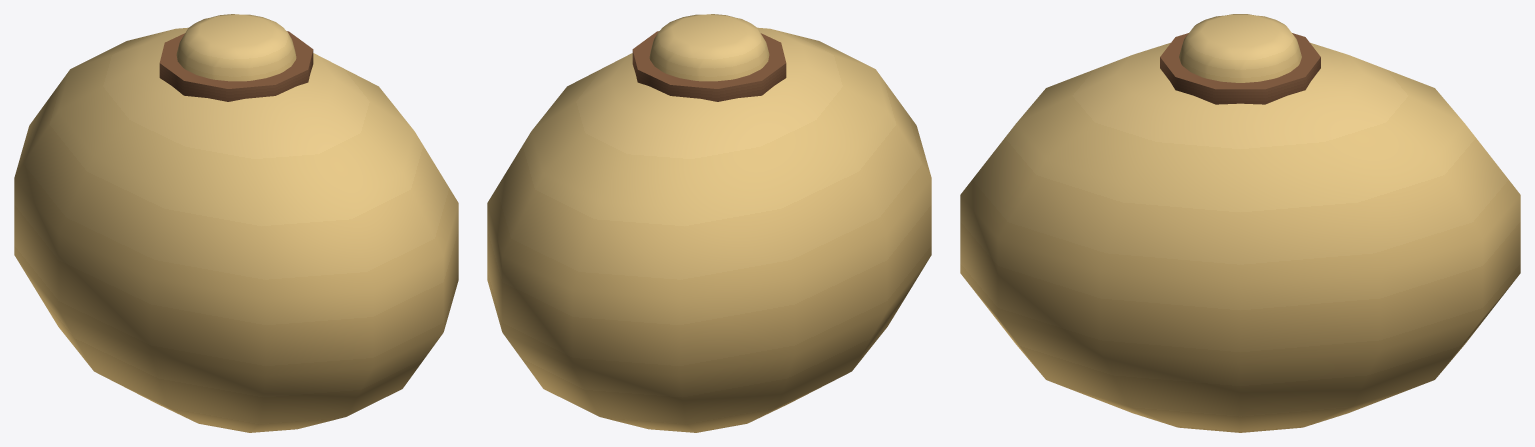
File: sack.glb
3 views of the same model, side by side, from view 1: azimuth 30°, elevation 25°; view 2: azimuth 150°, elevation 25°; view 3: azimuth 270°, elevation 25° (orthographic). The views are drawn at different scales.
Visible parts, largest first — view 1: sack; view 2: sack; view 3: sack.
Boxes of the visible parts, left/top/right/bottom form: sack: left=14, top=14, right=458, bottom=432; sack: left=487, top=14, right=931, bottom=432; sack: left=960, top=14, right=1520, bottom=432.
Size of the model in its own units: 0.7312 by 0.73 by 0.9749.
1 material, 1 textured.
